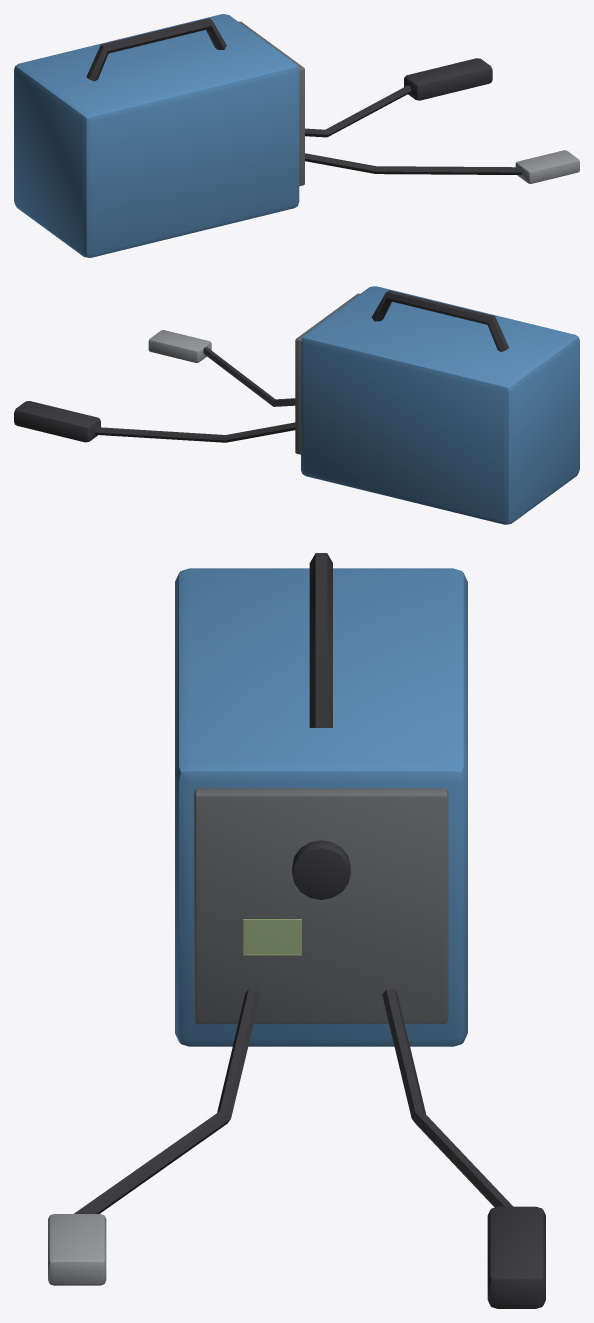
File: EQP-PEQ-009_lod1.glb
The picture shows the model from 3 angles, top to bottom: view 1: azimuth 30°, elevation 25°; view 2: azimuth 150°, elevation 25°; view 3: azimuth 270°, elevation 25°; orthographic projection. The views are drawn at different scales.
Parts seen in each view (by area): view 1: EQP-PEQ-009_gabinete, EQP-PEQ-009_porta_eletrodo, EQP-PEQ-009_alca, EQP-PEQ-009_cabo_terra, EQP-PEQ-009_garra_terra, EQP-PEQ-009_cabo_garra, EQP-PEQ-009_painel; view 2: EQP-PEQ-009_gabinete, EQP-PEQ-009_porta_eletrodo, EQP-PEQ-009_alca, EQP-PEQ-009_cabo_garra, EQP-PEQ-009_garra_terra, EQP-PEQ-009_painel, EQP-PEQ-009_cabo_terra; view 3: EQP-PEQ-009_gabinete, EQP-PEQ-009_painel, EQP-PEQ-009_porta_eletrodo, EQP-PEQ-009_cabo_terra, EQP-PEQ-009_garra_terra, EQP-PEQ-009_alca, EQP-PEQ-009_cabo_garra, EQP-PEQ-009_botao, EQP-PEQ-009_display.
Part boxes in pixels (x1,y1,x2,y2): EQP-PEQ-009_gabinete: (14,14,299,257); EQP-PEQ-009_porta_eletrodo: (404,58,492,100); EQP-PEQ-009_alca: (86,18,226,81); EQP-PEQ-009_cabo_terra: (305,153,521,174); EQP-PEQ-009_garra_terra: (515,150,579,183); EQP-PEQ-009_cabo_garra: (305,85,411,137); EQP-PEQ-009_painel: (238,21,304,186); EQP-PEQ-009_gabinete: (301,286,579,524); EQP-PEQ-009_porta_eletrodo: (14,401,100,442); EQP-PEQ-009_alca: (371,290,509,351); EQP-PEQ-009_cabo_garra: (95,422,295,442); EQP-PEQ-009_garra_terra: (148,330,211,362); EQP-PEQ-009_painel: (295,293,359,454); EQP-PEQ-009_cabo_terra: (203,347,295,406); EQP-PEQ-009_gabinete: (175,568,467,1046); EQP-PEQ-009_painel: (194,788,448,1023); EQP-PEQ-009_porta_eletrodo: (487,1206,545,1308); EQP-PEQ-009_cabo_terra: (74,989,260,1213); EQP-PEQ-009_garra_terra: (48,1214,106,1285); EQP-PEQ-009_alca: (309,553,332,727); EQP-PEQ-009_cabo_garra: (382,989,512,1207); EQP-PEQ-009_botao: (292,840,350,899); EQP-PEQ-009_display: (243,919,301,955).
Bounding box in the file's own units: 1.13 × 0.3888 × 0.51.
